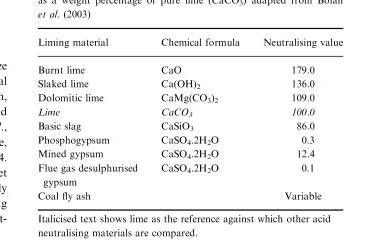table: (36, 37, 342, 200)
table column: (36, 37, 148, 200), (148, 37, 250, 200), (250, 37, 342, 200)
table column header: (36, 37, 342, 55)
table row: (36, 161, 342, 188), (36, 55, 342, 76), (36, 37, 342, 55), (36, 76, 342, 91), (36, 91, 342, 105), (36, 105, 342, 119), (36, 119, 342, 133), (36, 133, 342, 147), (36, 147, 342, 161), (36, 188, 342, 200)
